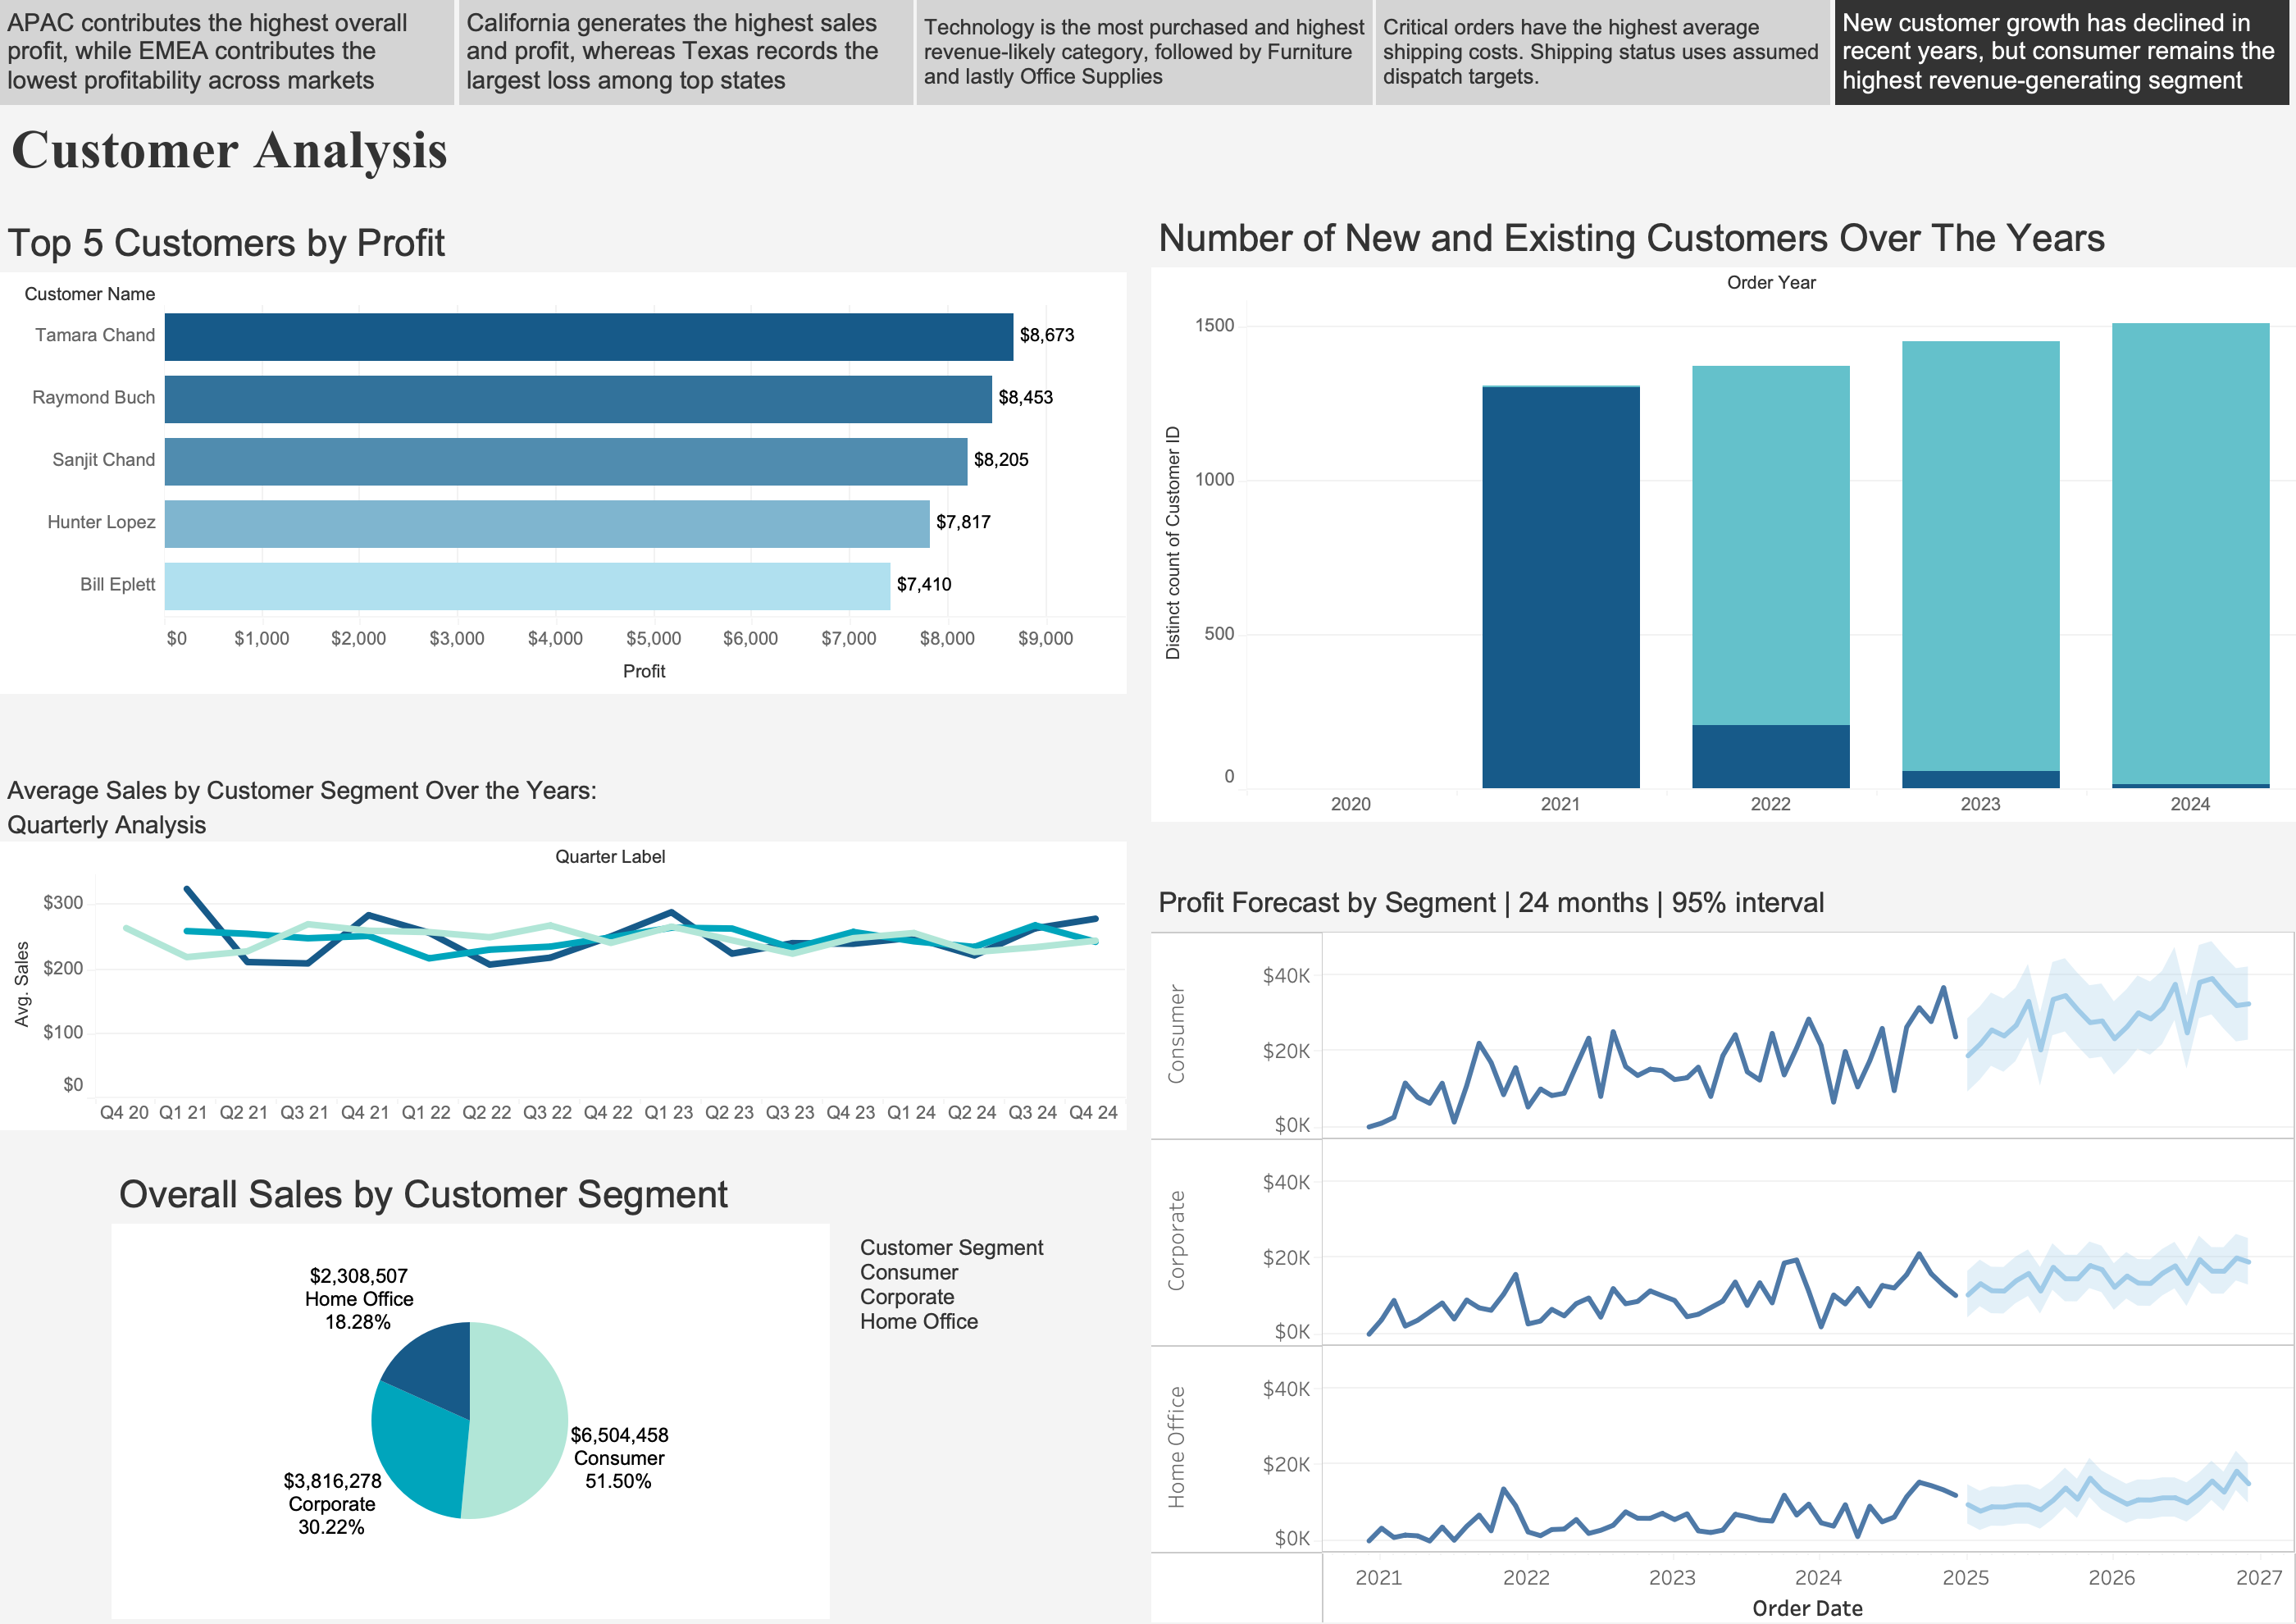

Layout of this report page (visuals, bound fields, positions):
{"tool":"tableau","page":{"name":"Customer Analysis","canvas":[1400,990],"ordinal":4},"visuals":[{"type":"text","box":[12.4,10.9,272.2,60.6]},{"type":"text","box":[287,10.9,272.2,60.6]},{"type":"text","box":[561.6,10.9,272.2,60.6]},{"type":"text","box":[836.1,10.9,272.2,60.6]},{"type":"text","box":[1110.7,10.9,272.2,60.6]},{"type":"text","box":[14,75.4,1368.9,43.5]},{"type":"text","box":[701.6,131.3,685.2,34.2]},{"type":"text","box":[12.4,133.7,673.6,34.2]},{"type":"worksheet","title":"New and existing customers by year","mark":"Bar","rows":["Customer ID"],"cols":["Order Year"],"box":[701.6,165.5,685.2,320.2]},{"type":"worksheet","title":"Top 5 customers by profit","mark":"Bar","rows":["Customer Name"],"cols":["Profit"],"box":[12.4,167.8,673.6,243.2]},{"type":"text","box":[12.4,457.7,673.6,19.4]},{"type":"text","box":[12.4,477.1,673.6,19.4]},{"type":"worksheet","title":"Quarterly average transaction sales by segment","mark":"Line","rows":["Sales"],"cols":["Quarter Label"],"box":[12.4,496.6,673.6,166.3]},{"type":"text","box":[701.6,515.2,685.2,34.2]},{"type":"worksheet","title":"Monthly profit by segment - actuals only","mark":"Line","rows":["Segment","Profit"],"cols":["Order Date"],"box":[701.6,549.4,685.2,399.4]},{"type":"text","box":[79.3,683.8,428.6,34.2]},{"type":"text","box":[522.7,710.3,163.3,85.5]},{"type":"worksheet","title":"Overall sales by segment","mark":"Pie","box":[79.3,718,428.6,226.9]}]}

Visuals, with their boxes in screenshot pixels (x1, y1, x2, y2), scaled from the page's 1400x990 canvas onto the 2296x1624 screenshot:
text: (20, 18, 467, 117)
text: (471, 18, 917, 117)
text: (921, 18, 1368, 117)
text: (1371, 18, 1818, 117)
text: (1821, 18, 2268, 117)
text: (23, 124, 2268, 195)
text: (1150, 216, 2275, 271)
text: (20, 219, 1125, 276)
"New and existing customers by year" worksheet (Bar marks): (1150, 271, 2275, 796)
"Top 5 customers by profit" worksheet (Bar marks): (20, 276, 1125, 674)
text: (20, 750, 1125, 782)
text: (20, 782, 1125, 814)
"Quarterly average transaction sales by segment" worksheet (Line marks): (20, 814, 1125, 1088)
text: (1150, 845, 2275, 901)
"Monthly profit by segment - actuals only" worksheet (Line marks): (1150, 901, 2275, 1557)
text: (130, 1122, 833, 1178)
text: (857, 1166, 1125, 1306)
"Overall sales by segment" worksheet (Pie marks): (130, 1178, 833, 1550)
